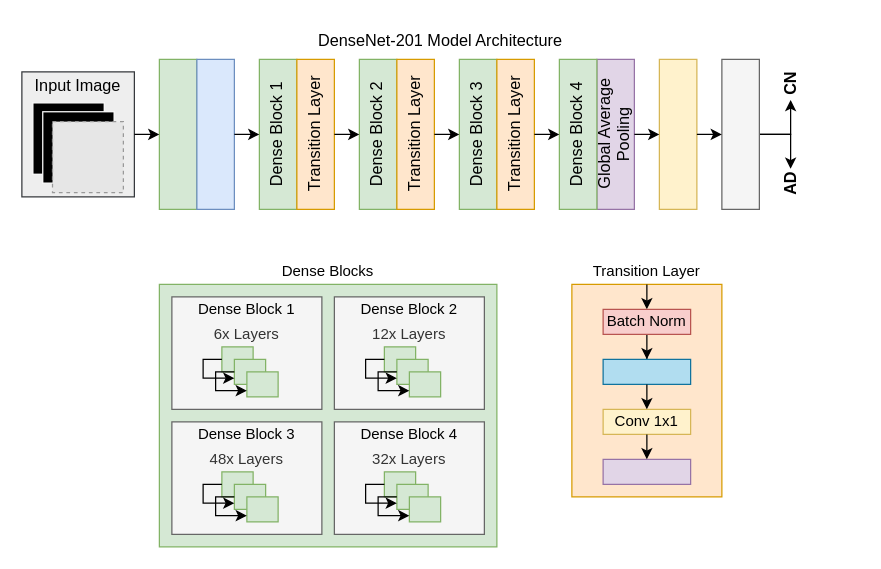
This 881x569 diagram has some shape labels left out. Grey dashed boxes stand in for pictures. Each missing label, with the box of its shape:
AvgPool 2x2: (602, 458, 691, 484)
Conv Block 7x7: (158, 58, 197, 209)
FC Layer: (721, 58, 759, 209)
Flatten Inputs: (658, 58, 697, 209)
Max Pooling: (196, 58, 234, 209)
ReLU: (602, 358, 691, 384)
